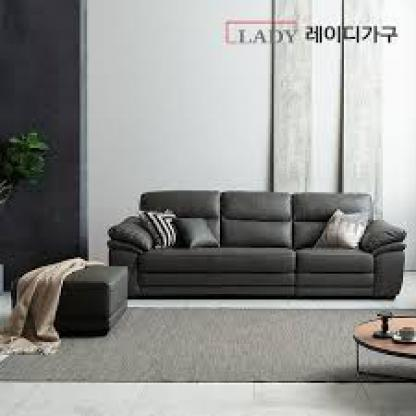sofa: (80, 190, 414, 304)
